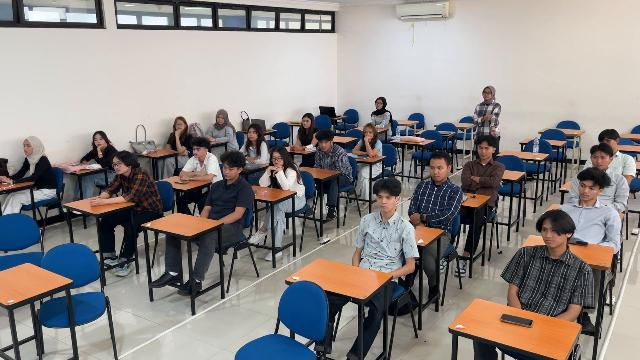fokus: (375, 185, 399, 212), (542, 221, 565, 248), (429, 156, 451, 182), (578, 180, 595, 201), (591, 151, 610, 169), (477, 142, 492, 160), (113, 157, 128, 174), (222, 163, 236, 179), (600, 136, 616, 149), (192, 144, 206, 157), (317, 138, 331, 151), (93, 134, 105, 147), (23, 139, 33, 154), (272, 153, 283, 166), (300, 117, 312, 128), (176, 118, 185, 131), (248, 128, 257, 140), (216, 113, 225, 124), (365, 128, 373, 139)
